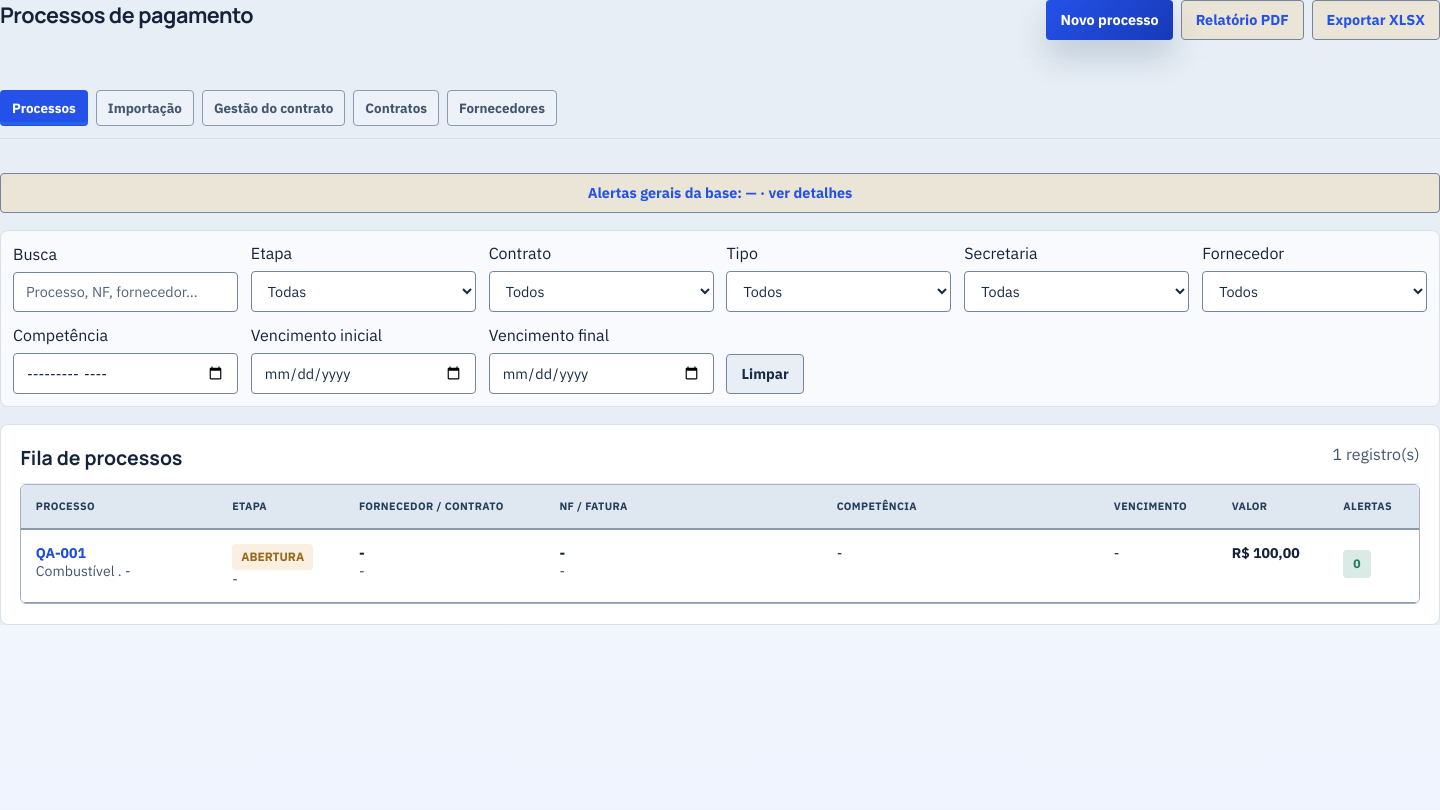
Test: mantém o detalhamento fechado quando a resposta dos alertas chega depois de fechar
Click the button "Alertas gerais da base: — · ver detalhes" at (720,192), box [0,172,1439,212]
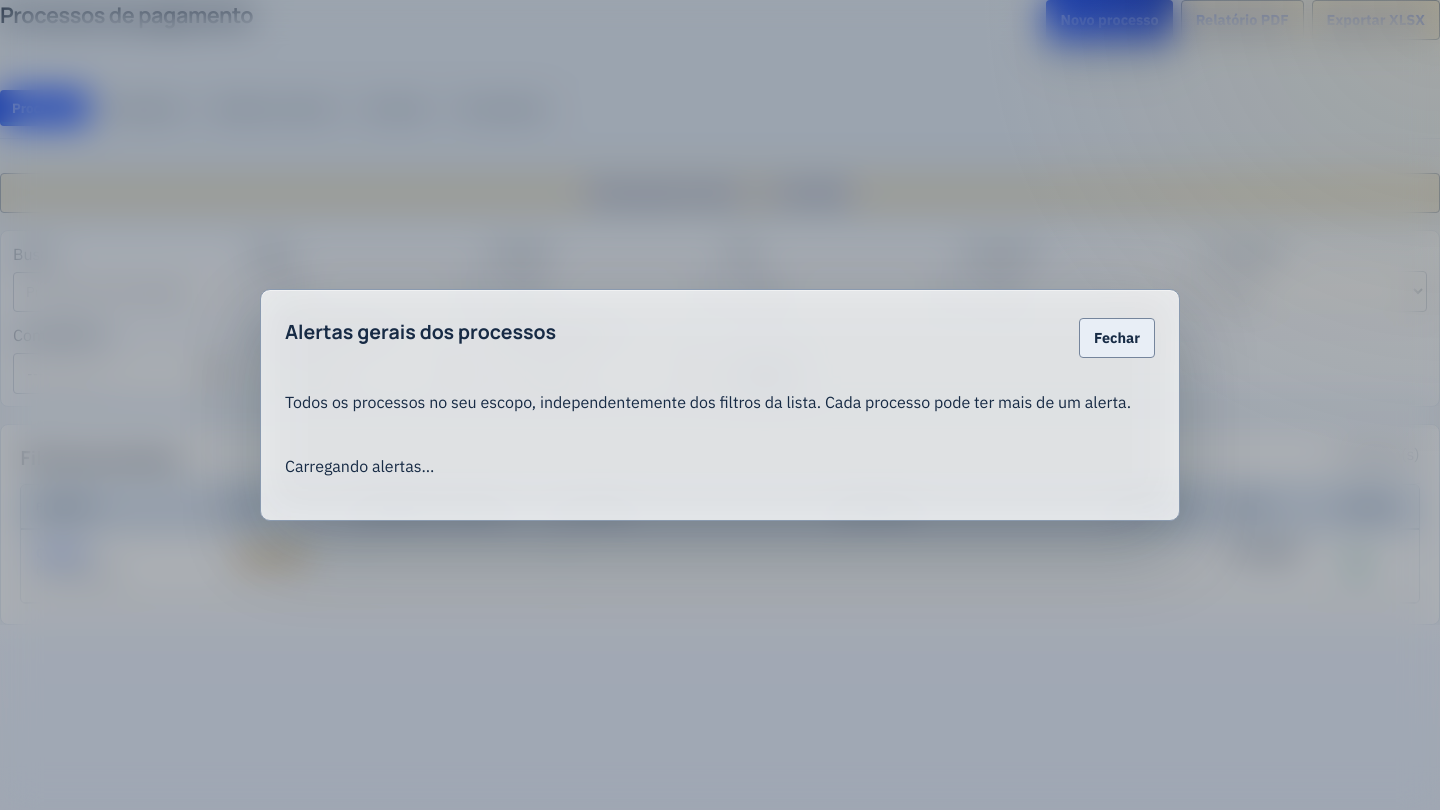
Click the button "Fechar" at (1117,338), box [1079,318,1155,358]
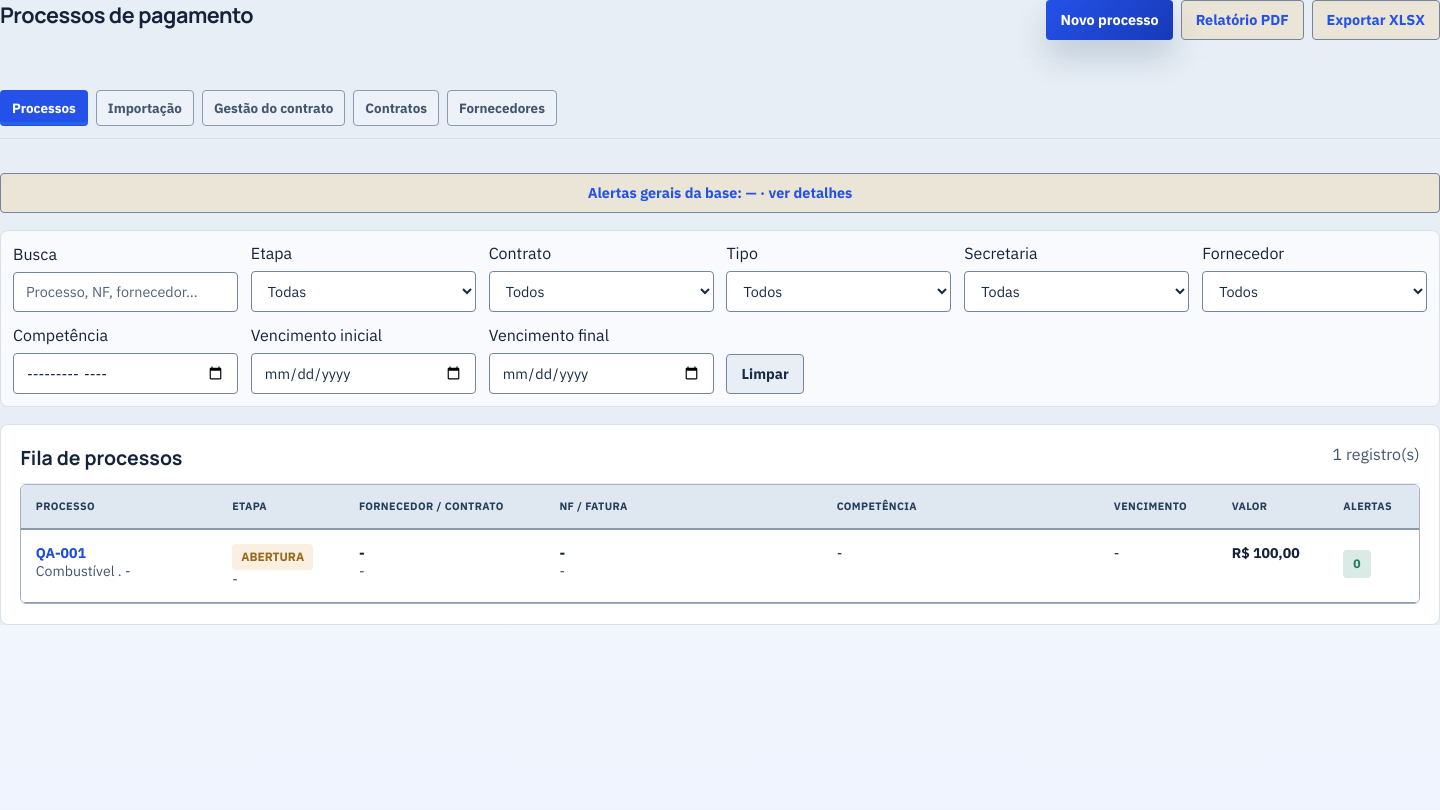
Now the heading "Alertas gerais dos processos" is gone
